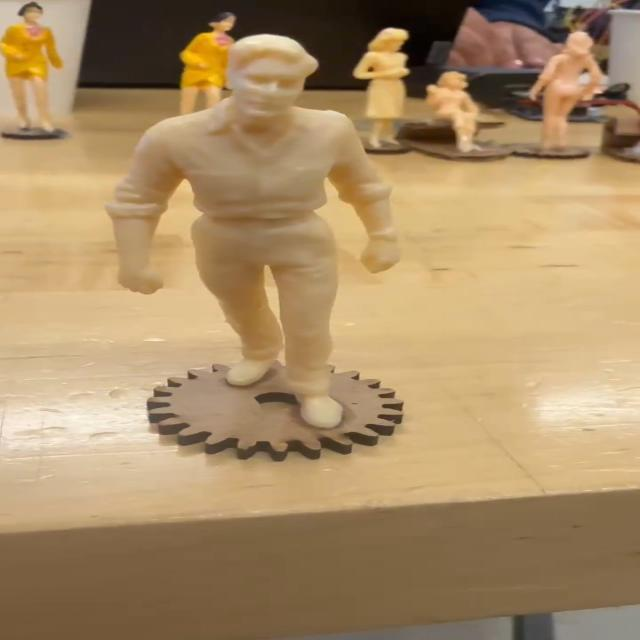Unauthorized: (76, 31, 407, 433)
